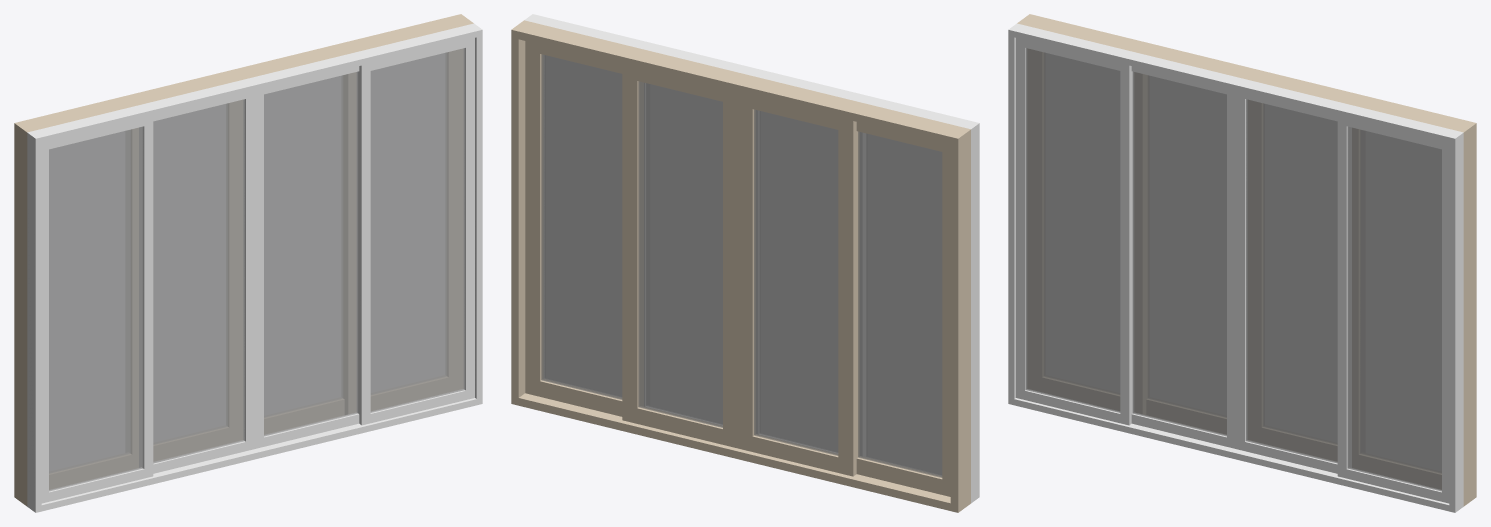
Rendered from double_sliding_doors.glb.
The picture shows the model from 3 angles, left to right: view 1: azimuth 30°, elevation 25°; view 2: azimuth 150°, elevation 25°; view 3: azimuth 330°, elevation 25°; orthographic projection.
Parts seen in each view (by area): view 1: Material2 (×3); view 2: Material2 (×3); view 3: Material2 (×3).
Part boxes in pixels (box(x1,y1,x2,y2)): Material2 (×3): box(14, 14, 482, 512); Material2 (×3): box(511, 14, 979, 512); Material2 (×3): box(1008, 14, 1476, 512).
Bounding box in the file's own units: 118 × 94.49 × 9.84.
